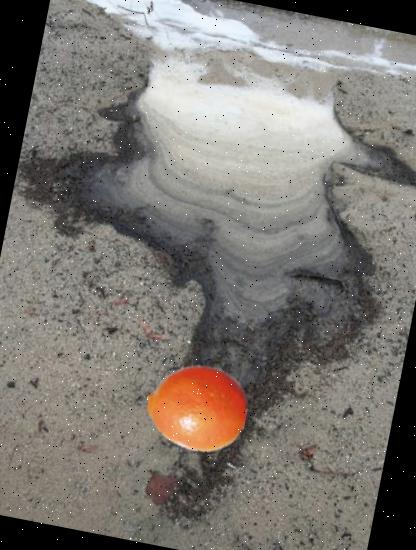Tangelo: (136, 347, 256, 467)
